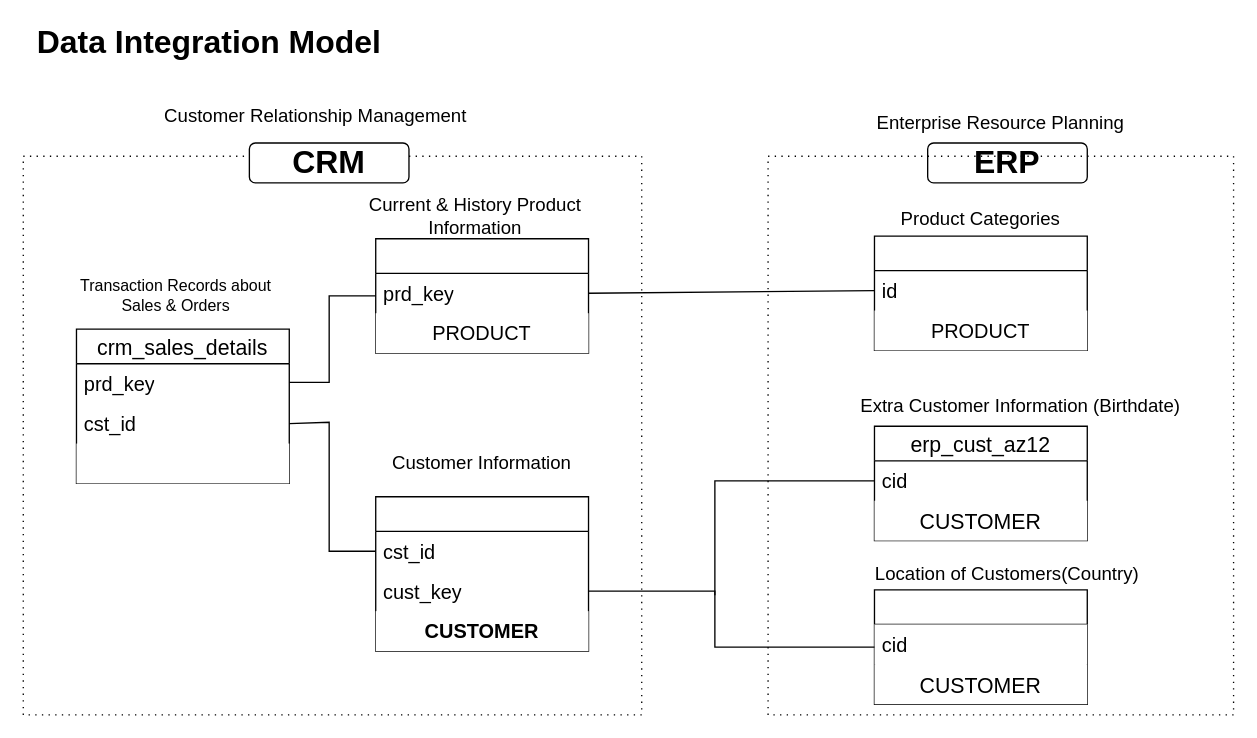
Some shapes in this 1257 by 738 pixel diagram are drawn without their labels. Here are the shapes that lost their labels. From the top down, the box of each, then its label:
(374, 237, 589, 353): crm_prd_info
(873, 235, 1087, 350): erp_px_cat_g1v2
(76, 443, 289, 483): SALES
(374, 495, 589, 651): crm_cust_info
(873, 589, 1087, 704): erp_loc_a101
